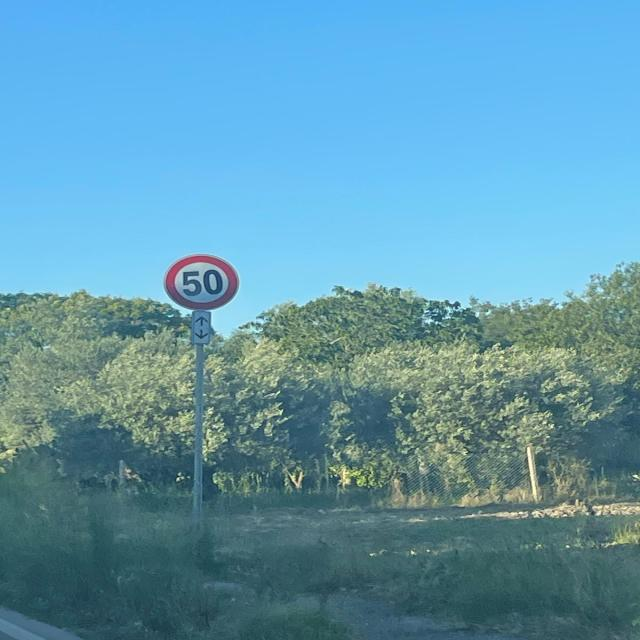forb_speed_over_50: (164, 254, 242, 311)
